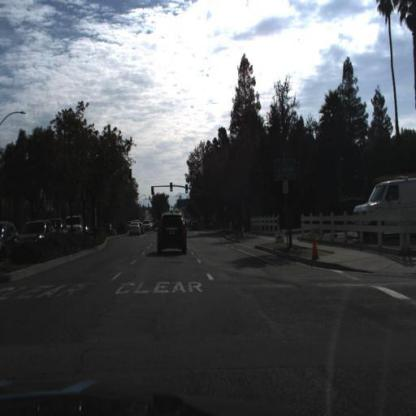car: (351, 175, 416, 245), (156, 209, 192, 258), (17, 217, 58, 253), (17, 218, 58, 253), (56, 212, 88, 241), (2, 221, 20, 268), (25, 217, 54, 239), (129, 220, 144, 239)
trafficLight-Green: (170, 182, 174, 194), (186, 185, 190, 197)
